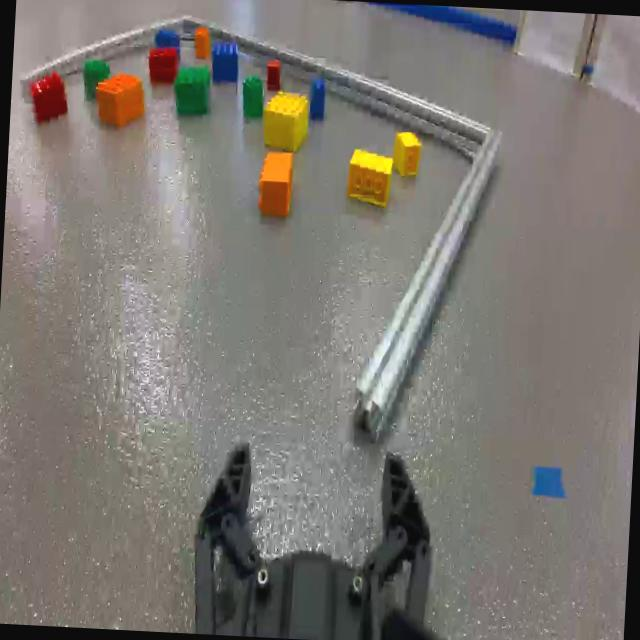block: (262, 90, 310, 154), (347, 148, 393, 208), (392, 131, 421, 178)
blue: (211, 40, 239, 86), (154, 29, 181, 59), (310, 78, 326, 118)
green: (174, 66, 213, 118), (82, 61, 112, 98), (241, 77, 263, 116)
metal barrier: (20, 12, 503, 439)
orange: (96, 71, 147, 126), (258, 152, 294, 212), (194, 27, 211, 59)
red goal: (29, 72, 68, 122), (148, 46, 178, 82), (266, 60, 281, 88)
river: (353, 1, 518, 56)
storage cube: (580, 13, 640, 118), (514, 10, 596, 84)
